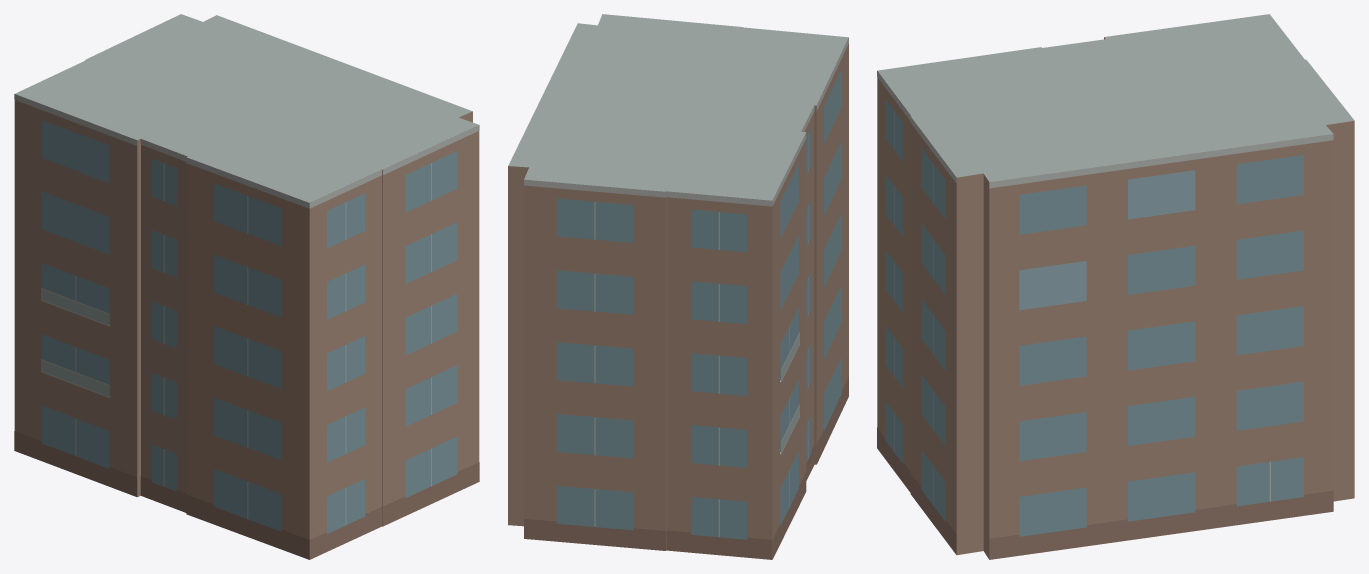
The model's file is survey-upis-32838215.glb.
3 renders of one model, left to right at view 1: azimuth 30°, elevation 25°; view 2: azimuth 150°, elevation 25°; view 3: azimuth 270°, elevation 25°, orthographic. The views are drawn at different scales.
Parts seen in each view (by area): view 1: survey-upis-32838215.tmp; view 2: survey-upis-32838215.tmp; view 3: survey-upis-32838215.tmp.
Part boxes in pixels (x1,y1,x2,y2): survey-upis-32838215.tmp: (14,14,479,559); survey-upis-32838215.tmp: (508,14,848,559); survey-upis-32838215.tmp: (877,14,1354,559).
Bounding box in the file's own units: 14.25 × 14.9 × 17.09.
